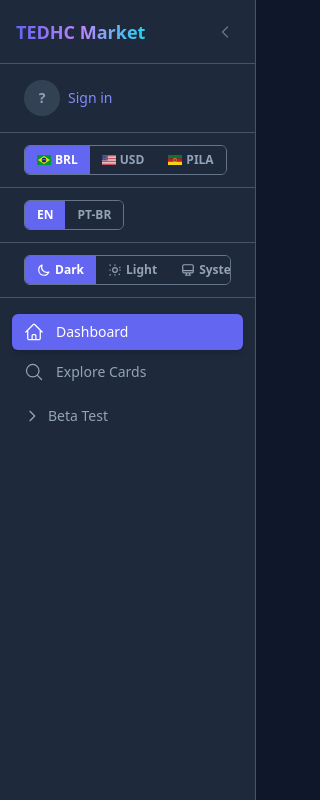
Test: Layout › shows public beta items when unauthenticated and expanded
Step 1. Click the button with test id "beta-nav-toggle" → (128, 416), box [12,398,243,434]
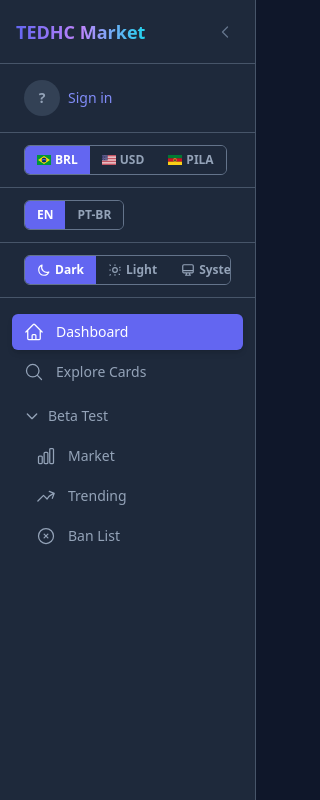
Expected: the heading "TEDHC Market" is shown, [16,18,145,46]
Now the text "Trending" is shown, box [68,486,127,506]
Now the text "Ban List" is shown, box [68,526,120,546]
